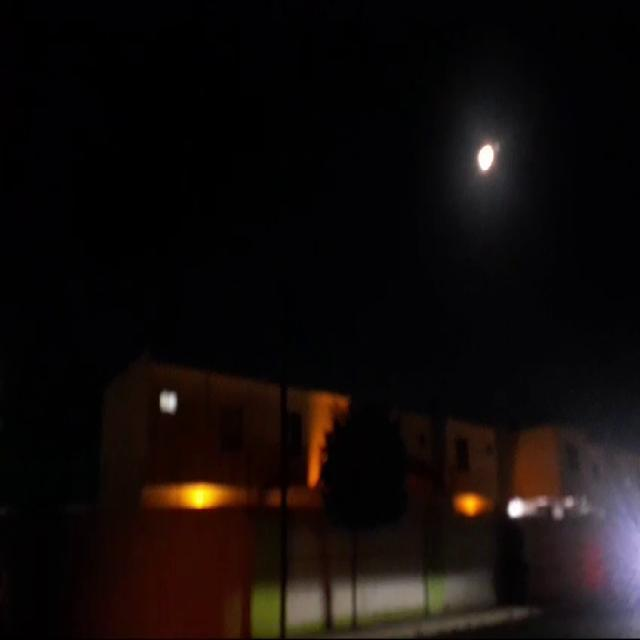moon: (476, 140, 496, 174)
